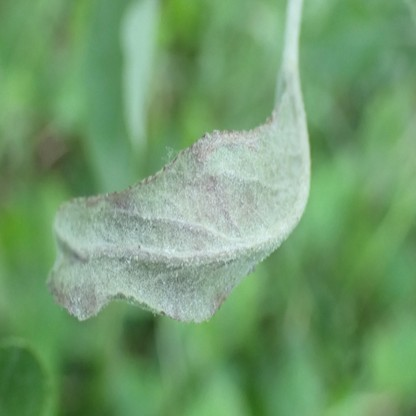powder: (48, 94, 316, 325)
